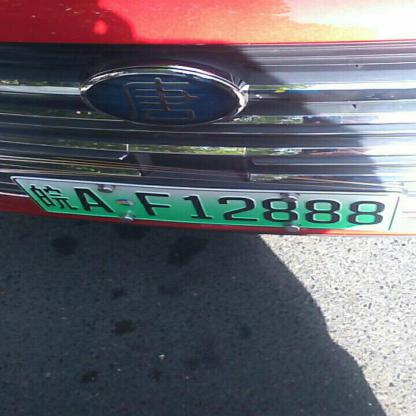lp: (12, 176, 44, 231)
